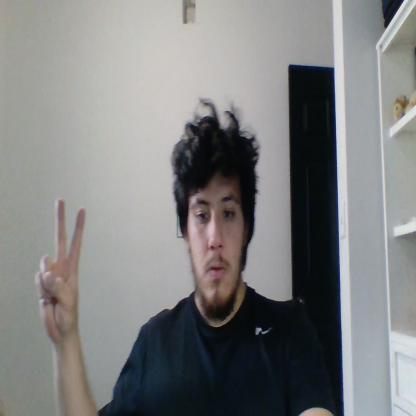V: (36, 196, 86, 344)
